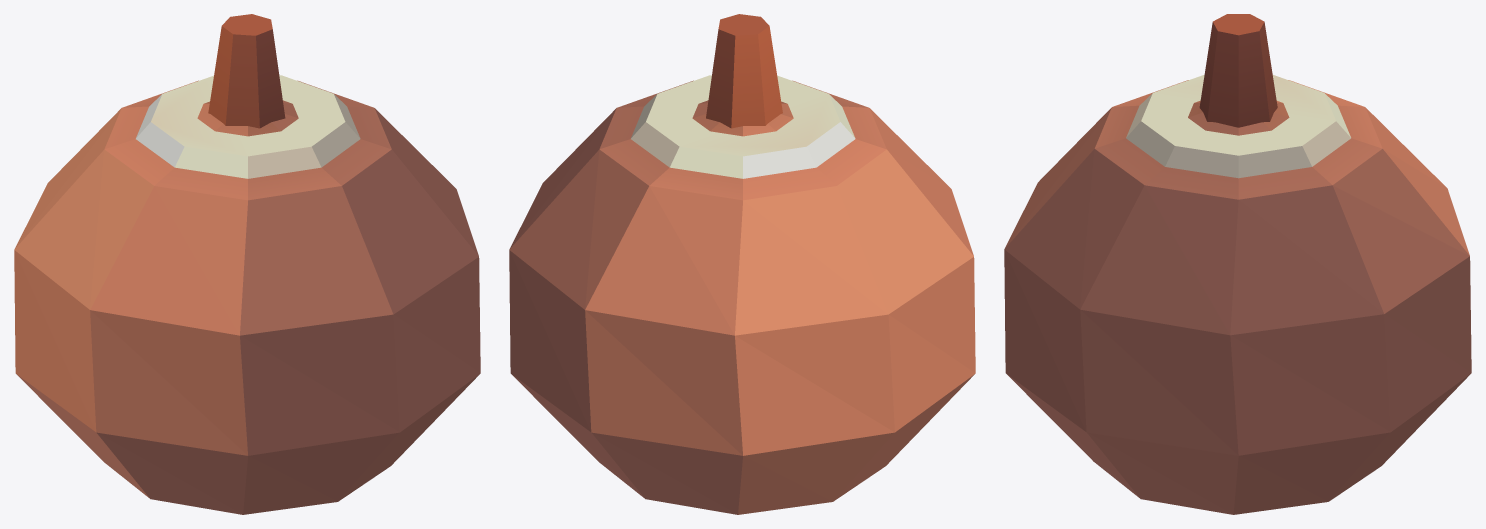
The model's file is bobber.glb.
The picture shows the model from 3 angles, left to right: view 1: azimuth 30°, elevation 25°; view 2: azimuth 150°, elevation 25°; view 3: azimuth 270°, elevation 25°; orthographic projection.
Parts seen in each view (by area): view 1: Schwimmer; view 2: Schwimmer; view 3: Schwimmer.
Boxes of the visible parts, x1,y1,x2,y2 form: Schwimmer: [14, 14, 480, 514]; Schwimmer: [509, 14, 975, 514]; Schwimmer: [1004, 14, 1471, 514].
Size of the model in its own units: 0.1911 by 0.213 by 0.1935.
